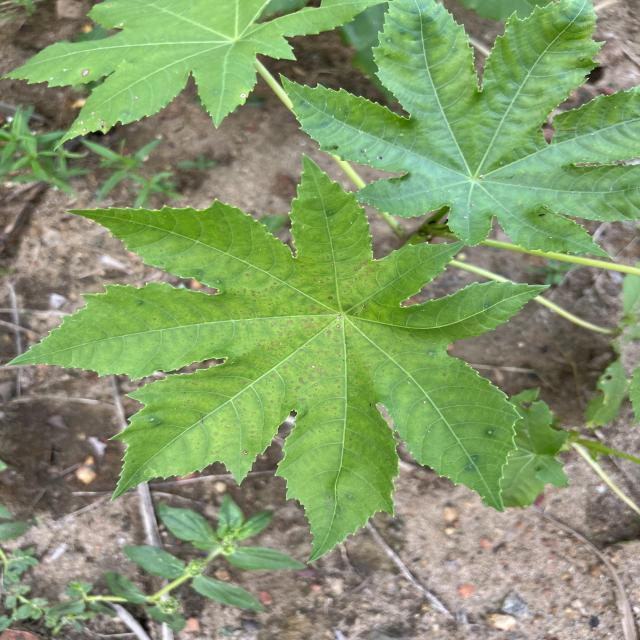Ricinus communis linn: (0, 148, 559, 569), (271, 0, 640, 267)
